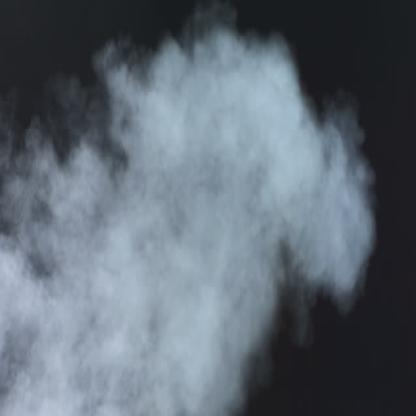smoke: (0, 44, 278, 415), (272, 112, 374, 306)
